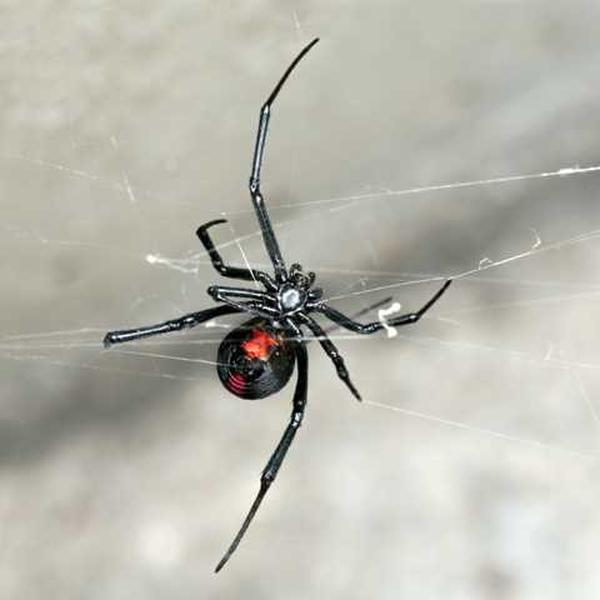Redback Spider: (110, 39, 447, 560)
